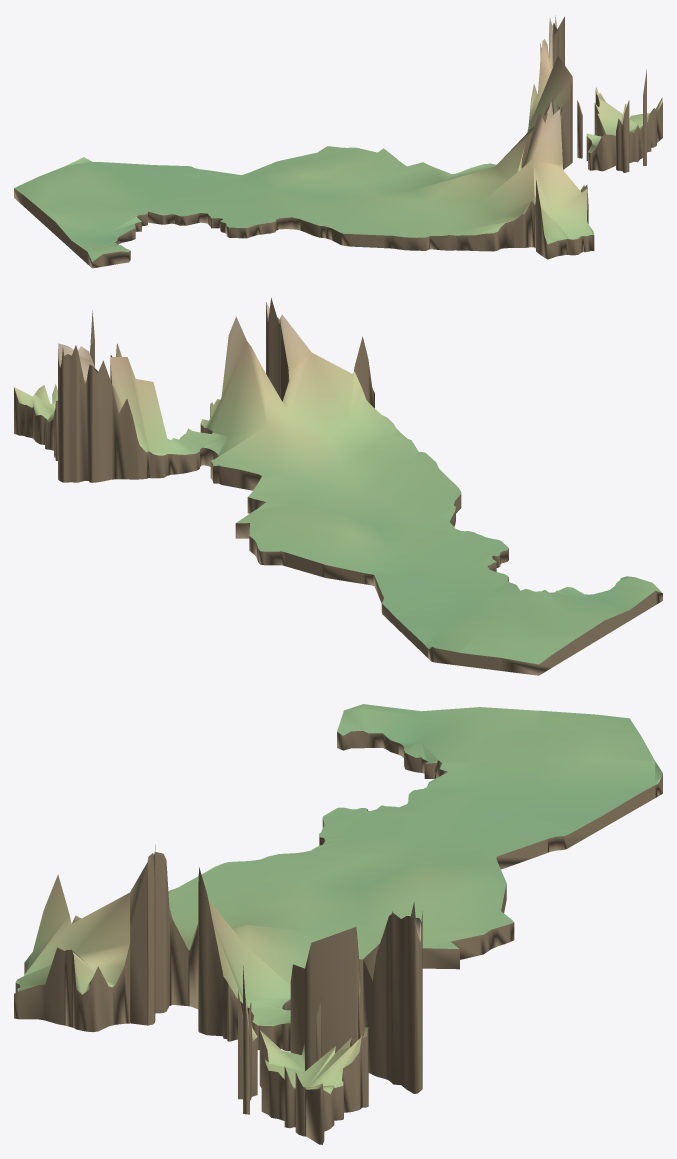
The model's file is UZB.glb.
3 views of the same model, one above another, from view 1: azimuth 30°, elevation 25°; view 2: azimuth 150°, elevation 25°; view 3: azimuth 270°, elevation 25° (orthographic). The views are drawn at different scales.
Visible parts, largest first — view 1: UZB; view 2: UZB; view 3: UZB.
Boxes of the visible parts, x1,y1,x2,y2 form: UZB: (14, 15, 662, 268); UZB: (14, 298, 662, 675); UZB: (14, 704, 662, 1144).
Bounding box in the file's own units: 1.69 × 0.338 × 1.09.
